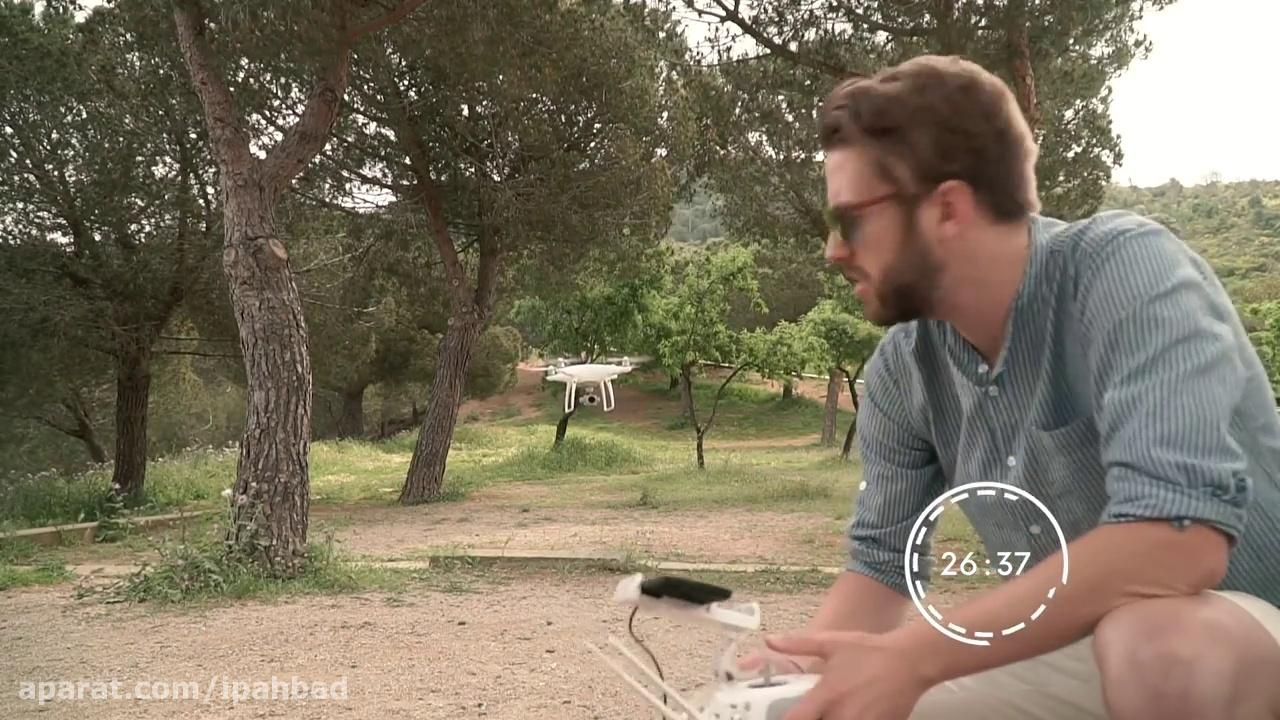drone: (536, 348, 652, 412)
